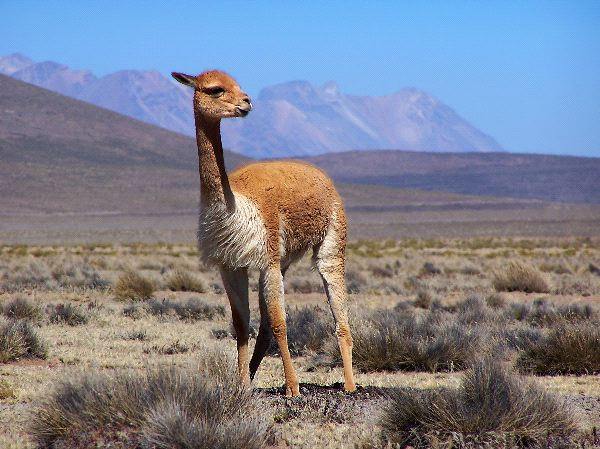eye: (203, 83, 227, 100)
mouth: (232, 102, 250, 119)
